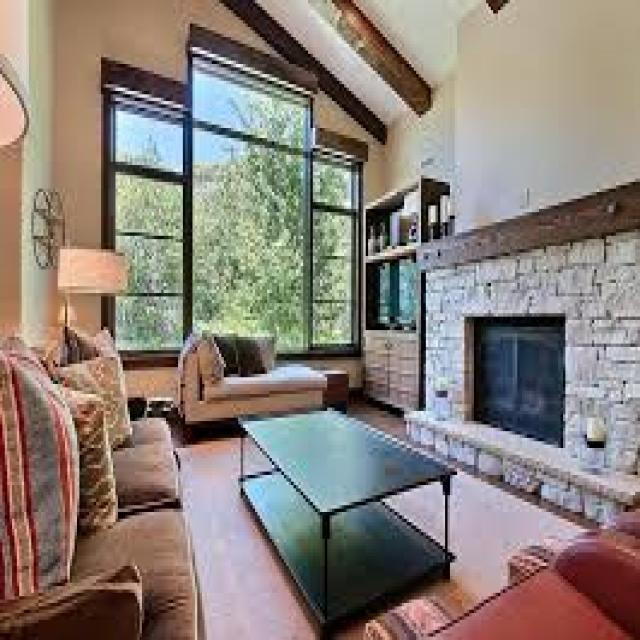Sofa: (4, 330, 198, 635), (178, 326, 324, 406)
Table: (241, 409, 455, 608)
tv: (470, 320, 569, 444)
window: (112, 83, 362, 349)
